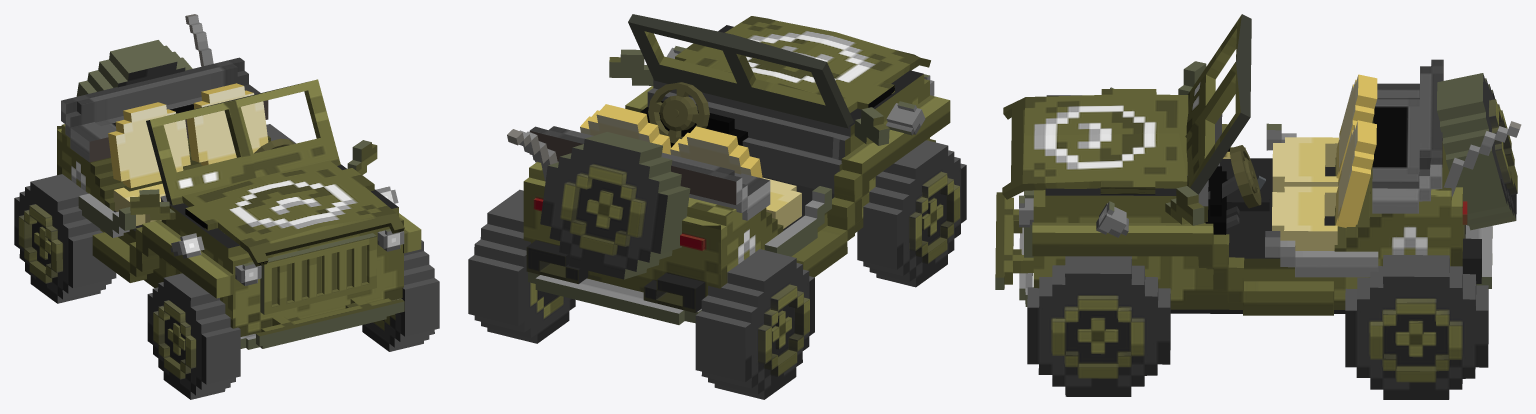
Rendered from military_jeep__jeep_pixel_style.glb.
The picture shows the model from 3 angles, left to right: view 1: azimuth 30°, elevation 25°; view 2: azimuth 150°, elevation 25°; view 3: azimuth 270°, elevation 25°; orthographic projection. The views are drawn at different scales.
Parts seen in each view (by area): view 1: Cube.002_0, Cube.001_36, Cube.011_9, Cube.013_11, Cube.006_4, Cube.023_21, Cube.005_3, Cube.012_10, Cube.020_18, Cube.004_2, Cube.019_17, Cube.015_13 (+11 smaller); view 2: Cube.001_36, Cube.015_13, Cube.013_11, Cube.011_9, Cube.006_4, Cube.002_0, Cube.014_12, Cube.012_10, Cube.023_21, Cube.007_5, Cube.020_18, Cylinder.003_35 (+8 smaller); view 3: Cube.001_36, Cube.014_12, Cube.002_0, Cube.004_2, Cube.003_1, Cube.023_21, Cube.015_13, Cube.006_4, Cube.021_19, Cube.022_20, Cube.025_23, Cube.019_17 (+10 smaller).
Part boxes in pixels (<box>): Cube.002_0: <box>182,160,404,266</box>; Cube.001_36: <box>57,124,403,336</box>; Cube.011_9: <box>147,273,240,399</box>; Cube.013_11: <box>14,174,116,303</box>; Cube.006_4: <box>146,79,340,205</box>; Cube.023_21: <box>61,57,268,162</box>; Cube.005_3: <box>260,233,376,314</box>; Cube.012_10: <box>92,220,233,298</box>; Cube.020_18: <box>108,102,190,187</box>; Cube.004_2: <box>362,240,439,351</box>; Cube.019_17: <box>186,83,268,165</box>; Cube.015_13: <box>76,40,192,96</box>; Cube.001_36: <box>523,25,929,312</box>; Cube.015_13: <box>540,132,690,279</box>; Cube.013_11: <box>695,249,814,399</box>; Cube.011_9: <box>857,140,966,287</box>; Cube.006_4: <box>628,14,853,128</box>; Cube.002_0: <box>675,16,930,112</box>; Cube.014_12: <box>468,189,575,343</box>; Cube.012_10: <box>791,95,950,277</box>; Cube.023_21: <box>529,126,770,220</box>; Cube.007_5: <box>528,272,701,324</box>; Cube.020_18: <box>670,126,762,178</box>; Cylinder.003_35: <box>648,82,709,143</box>; Cube.001_36: <box>1033,95,1481,313</box>; Cube.014_12: <box>1345,255,1488,399</box>; Cube.002_0: <box>1002,89,1188,199</box>; Cube.004_2: <box>1027,256,1170,396</box>; Cube.003_1: <box>1032,222,1333,315</box>; Cube.023_21: <box>1372,59,1443,213</box>; Cube.015_13: <box>1437,73,1517,230</box>; Cube.006_4: <box>1185,14,1251,194</box>; Cube.021_19: <box>1272,186,1337,250</box>; Cube.022_20: <box>1272,137,1338,192</box>; Cube.025_23: <box>1265,231,1378,277</box>; Cube.019_17: <box>1335,120,1376,227</box>.
Size of the model in its own units: 3.52 by 2.95 by 5.28.
Materials: 24 (3 with a texture image).
